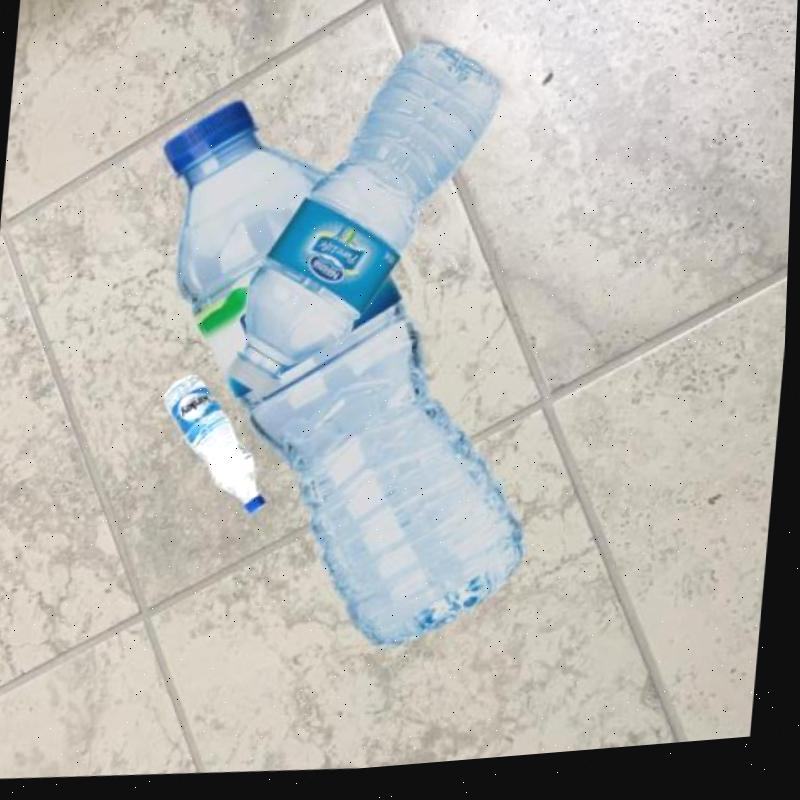botella: (123, 81, 562, 679), (229, 33, 508, 414), (154, 369, 282, 525)
